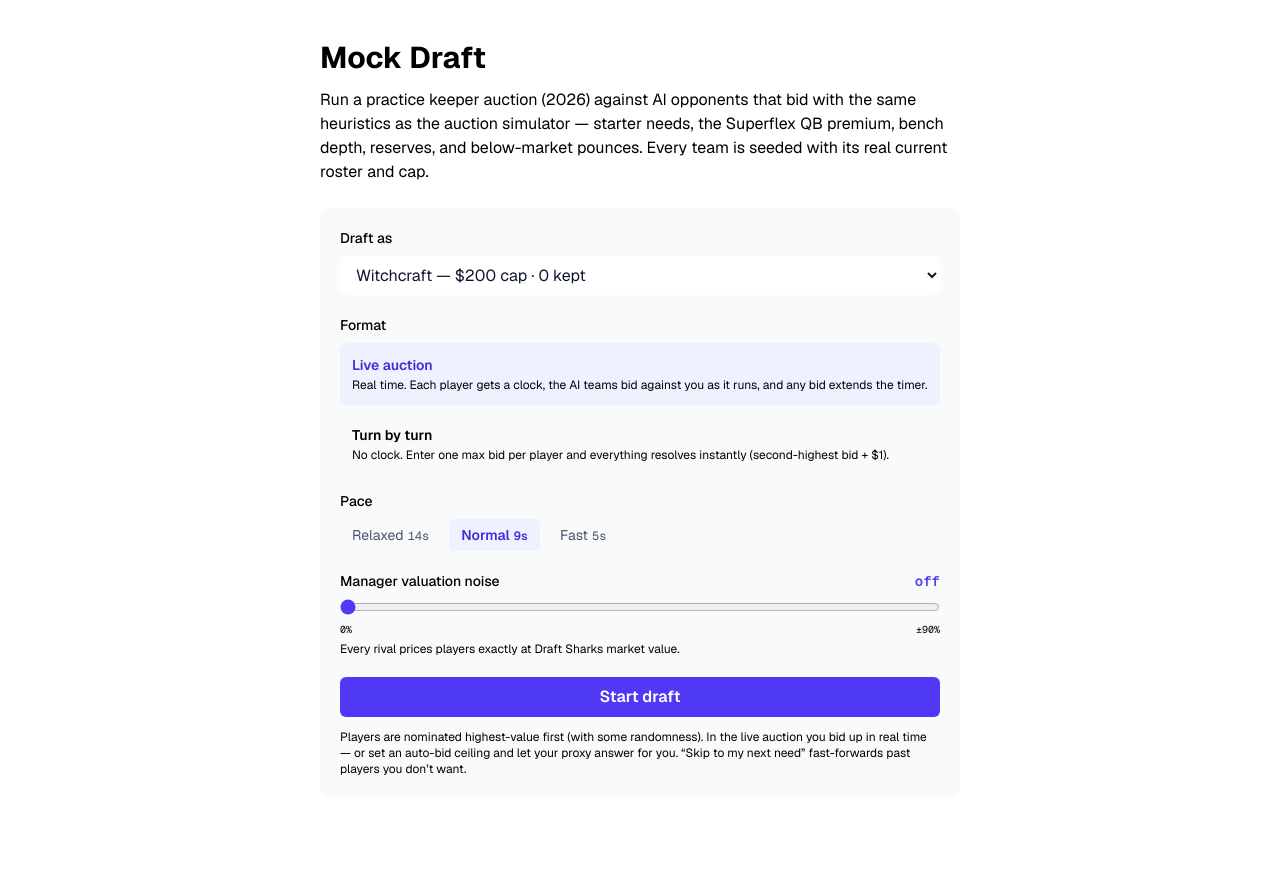
Scenario: MockDraftClient (live auction) › turn-by-turn mode has no clock
Click the text "Turn by turn": click(392, 435) top-left (352, 426), bottom-right (432, 444)
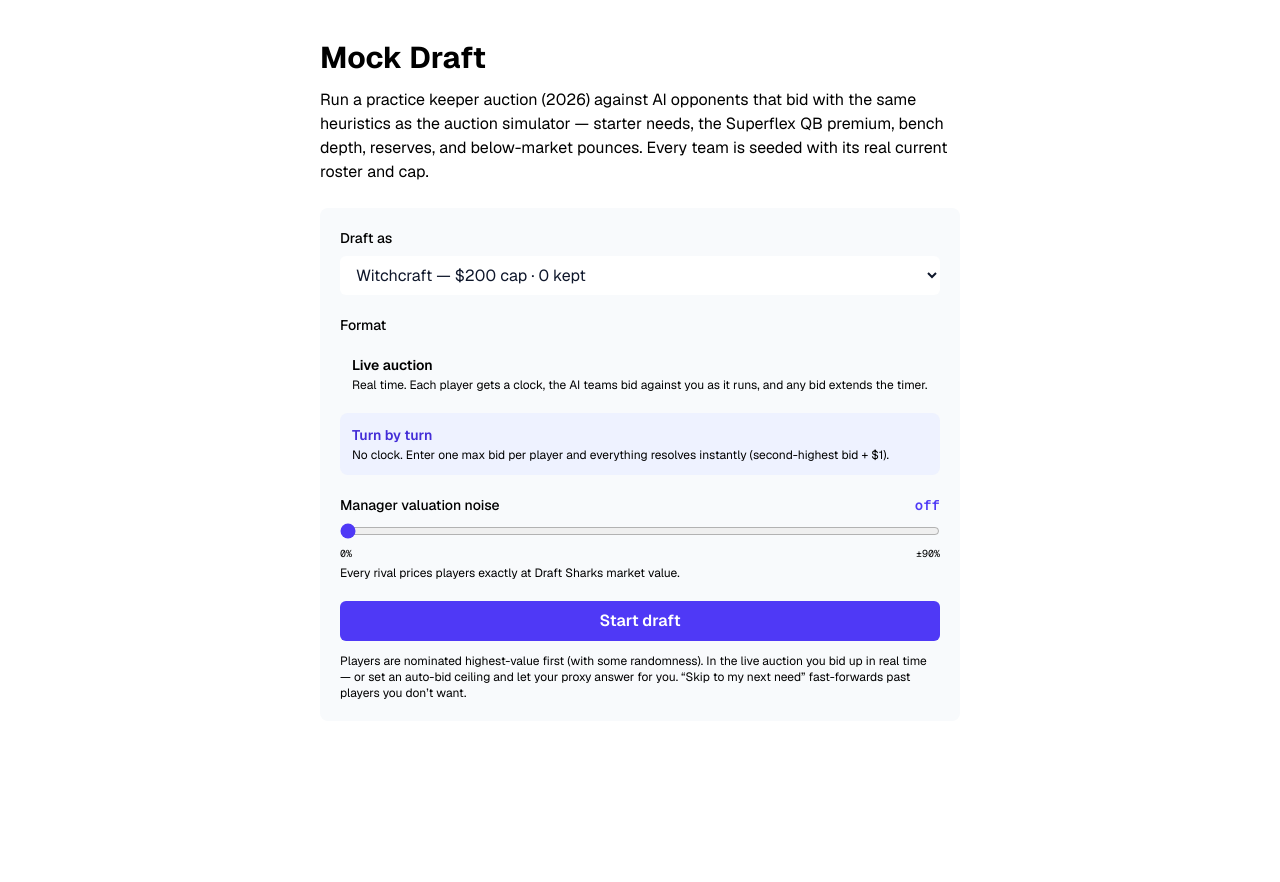
Click the button "Start draft": click(640, 621) top-left (340, 601), bottom-right (940, 641)
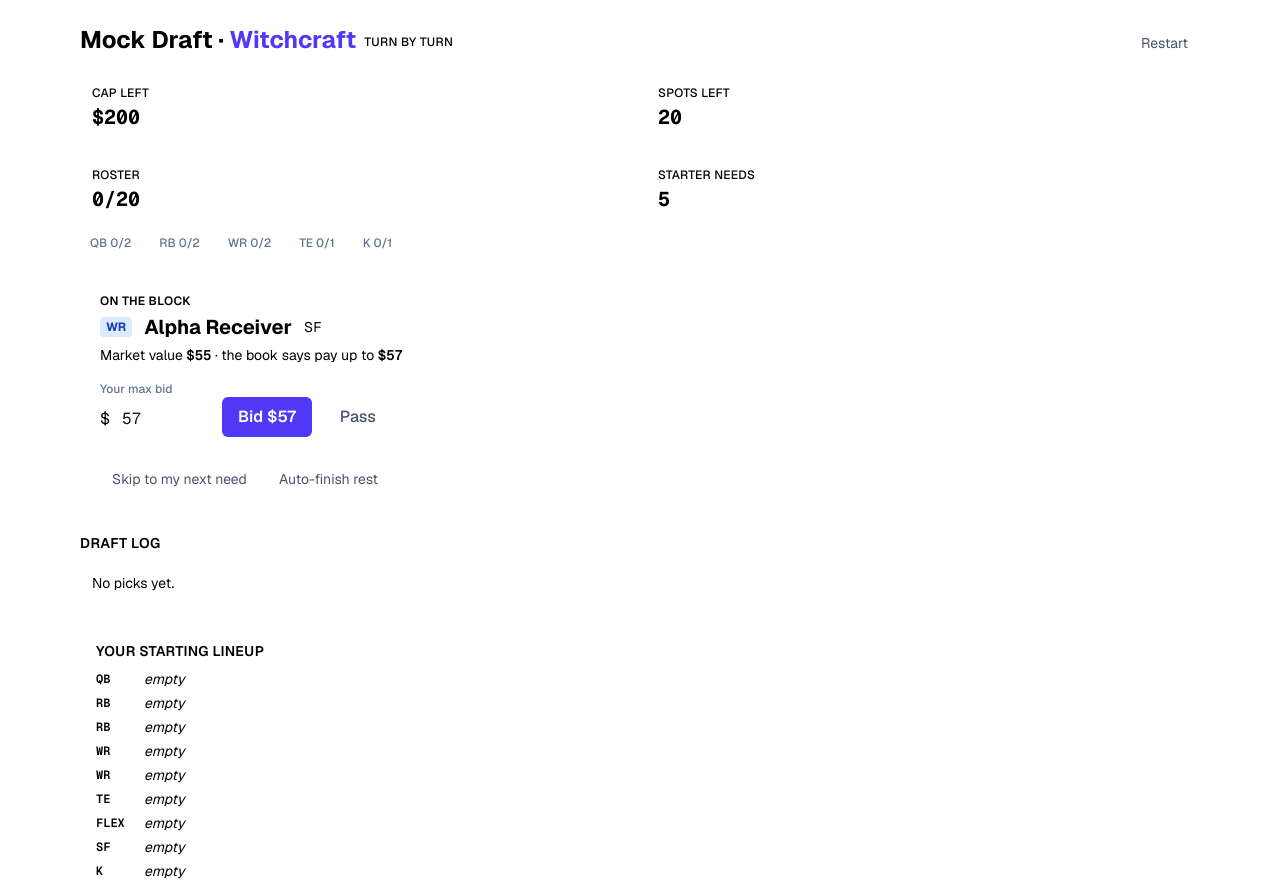
expect the text "Your max bid" is shown: met, box top-left (100, 381), bottom-right (172, 397)
Click the button "Pass": click(358, 417) top-left (324, 397), bottom-right (392, 437)
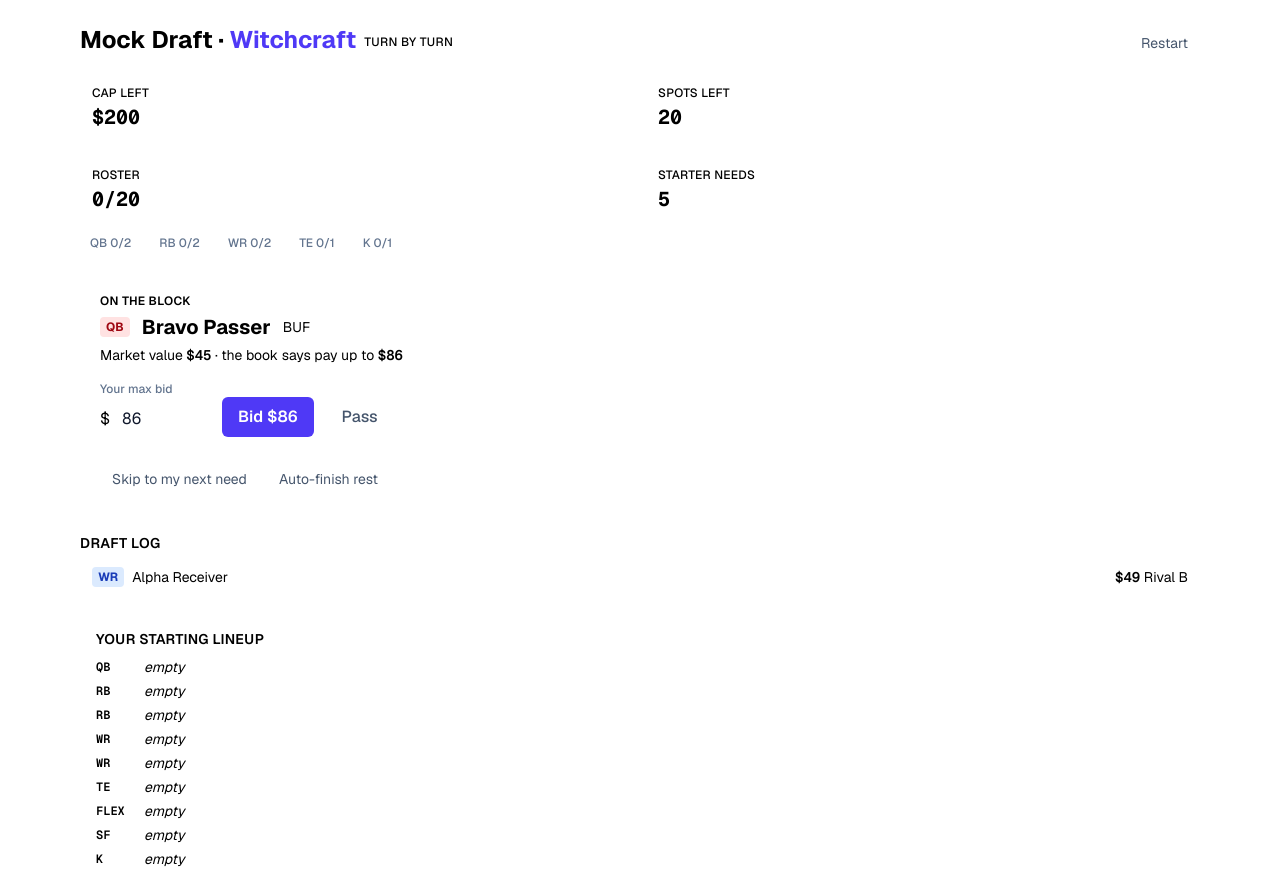
expect the text "No picks yet." is gone: met
